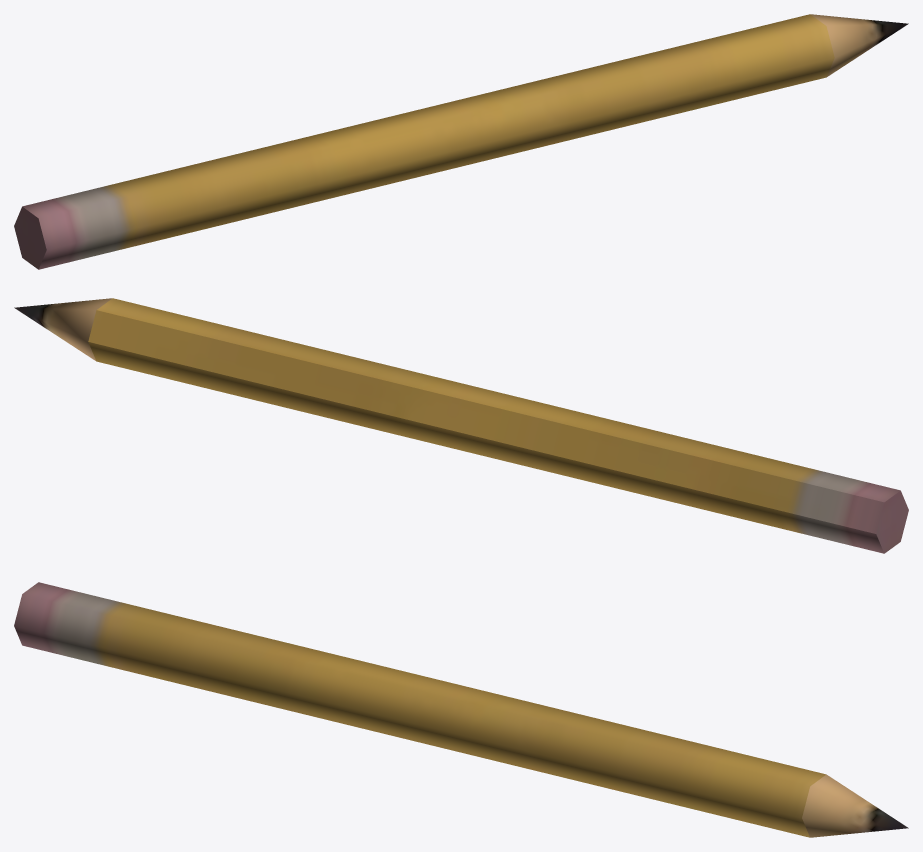
3 views of the same model, one above another, from view 1: azimuth 30°, elevation 25°; view 2: azimuth 150°, elevation 25°; view 3: azimuth 330°, elevation 25° (orthographic).
Parts seen in each view (by area): view 1: body0_model0_lod0_mesh0; view 2: body0_model0_lod0_mesh0; view 3: body0_model0_lod0_mesh0.
Part boxes in pixels (x1=…): body0_model0_lod0_mesh0: x1=14, y1=14, x2=908, y2=269; body0_model0_lod0_mesh0: x1=14, y1=298, x2=908, y2=553; body0_model0_lod0_mesh0: x1=14, y1=582, x2=908, y2=837.
Size of the model in its own units: 10.19 by 0.5696 by 0.6579.
Materials: 1 (1 with a texture image).
